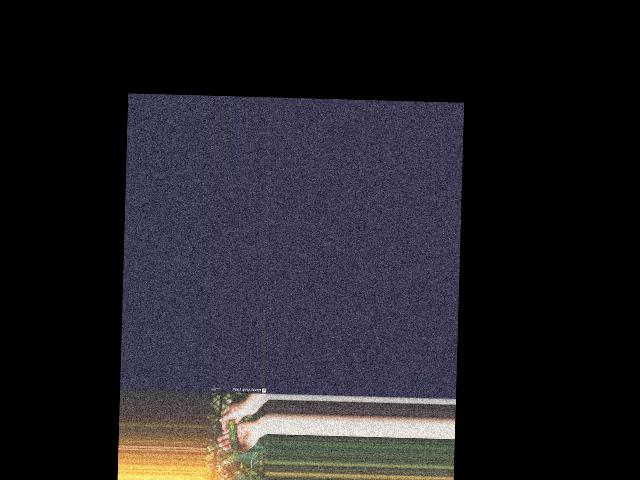cucumber: (227, 420, 239, 450)
